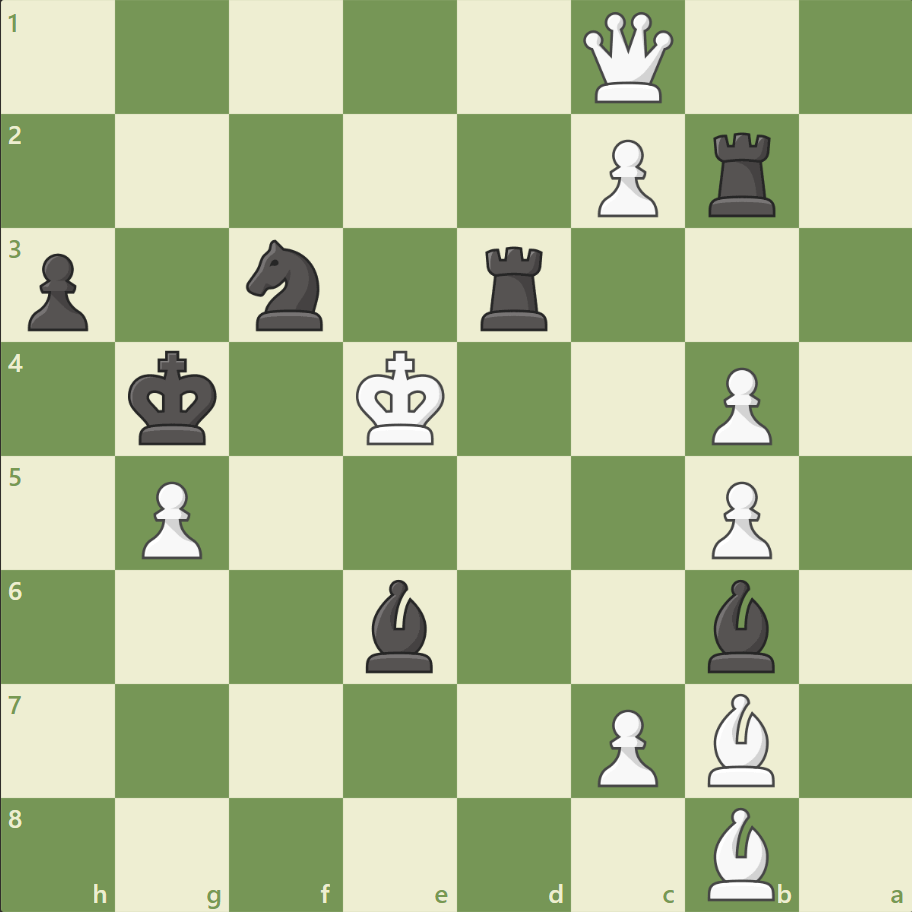B: (698, 801, 782, 904), (698, 687, 782, 790)
K: (351, 344, 451, 452)
P: (701, 473, 776, 564), (133, 473, 208, 564), (701, 359, 776, 450), (588, 700, 662, 791), (588, 132, 662, 223)
Q: (578, 9, 677, 108)
b: (698, 574, 782, 676), (358, 574, 442, 676)
k: (124, 344, 224, 452)
n: (238, 234, 335, 337)
p: (20, 246, 95, 337)
r: (473, 239, 556, 336), (700, 125, 783, 222)
